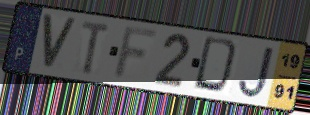2: (151, 32, 194, 92)
D: (191, 34, 243, 97)
F: (110, 24, 163, 83)
J: (236, 44, 277, 100)
T: (80, 19, 112, 76)
V: (40, 12, 79, 73)
